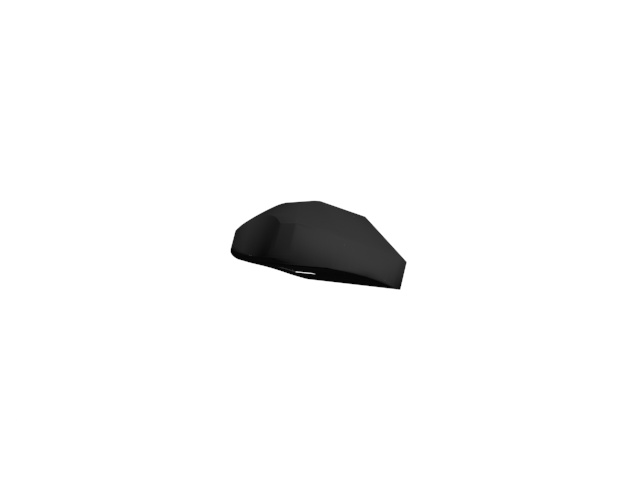mouse: (225, 201, 408, 296)
